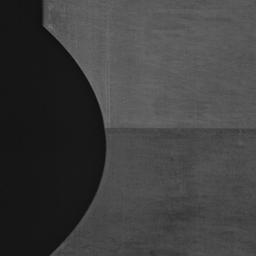Crescent gap: (44, 27, 106, 251)
